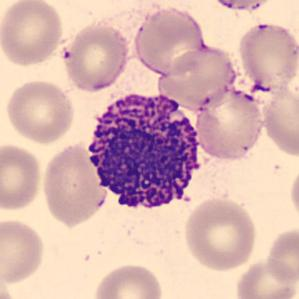Basophil: (81, 85, 214, 221)
RBC: (39, 139, 110, 228), (182, 196, 259, 273), (131, 3, 208, 78), (157, 43, 241, 111), (192, 86, 266, 162), (58, 20, 132, 94), (3, 77, 77, 145), (0, 0, 66, 67), (236, 21, 298, 88), (0, 216, 47, 285), (0, 140, 44, 213), (259, 79, 299, 158), (91, 261, 166, 299), (233, 257, 298, 299), (263, 225, 299, 285), (196, 0, 282, 14), (288, 162, 299, 222), (0, 272, 18, 299)
